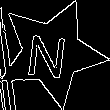N_N: (28, 26, 75, 80)
